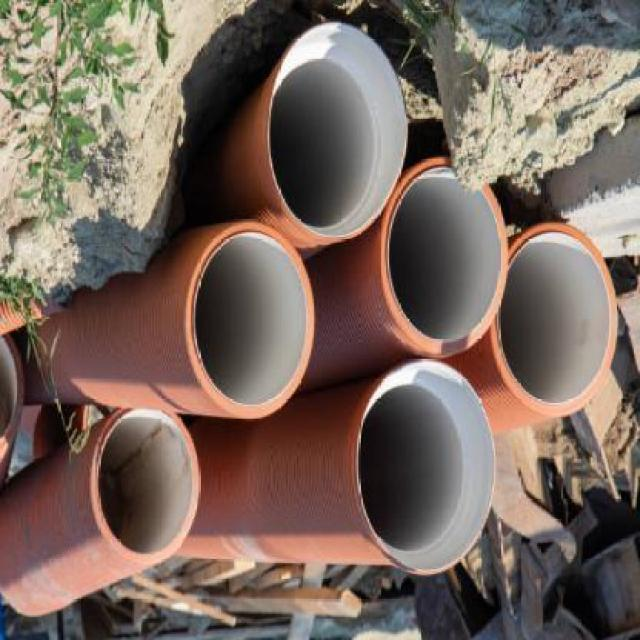pipe: (268, 21, 408, 237), (356, 360, 496, 573), (497, 229, 612, 408), (192, 229, 308, 406), (386, 166, 502, 342), (97, 409, 196, 557)
